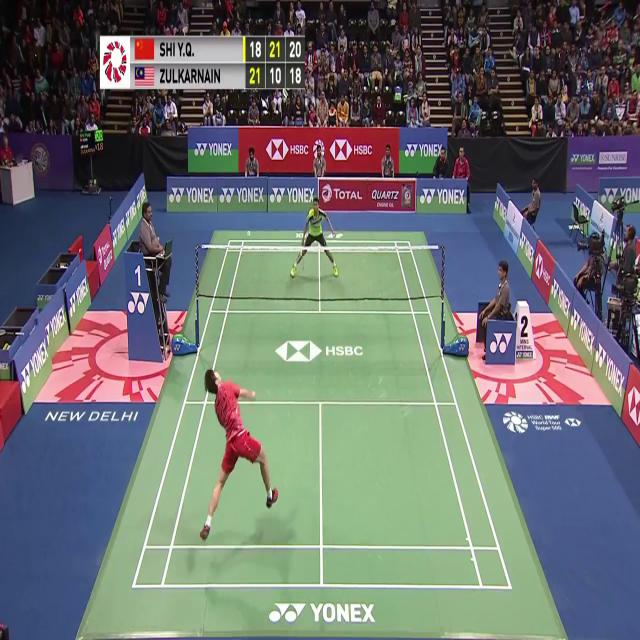Shuttlecock: (247, 227, 253, 239)
